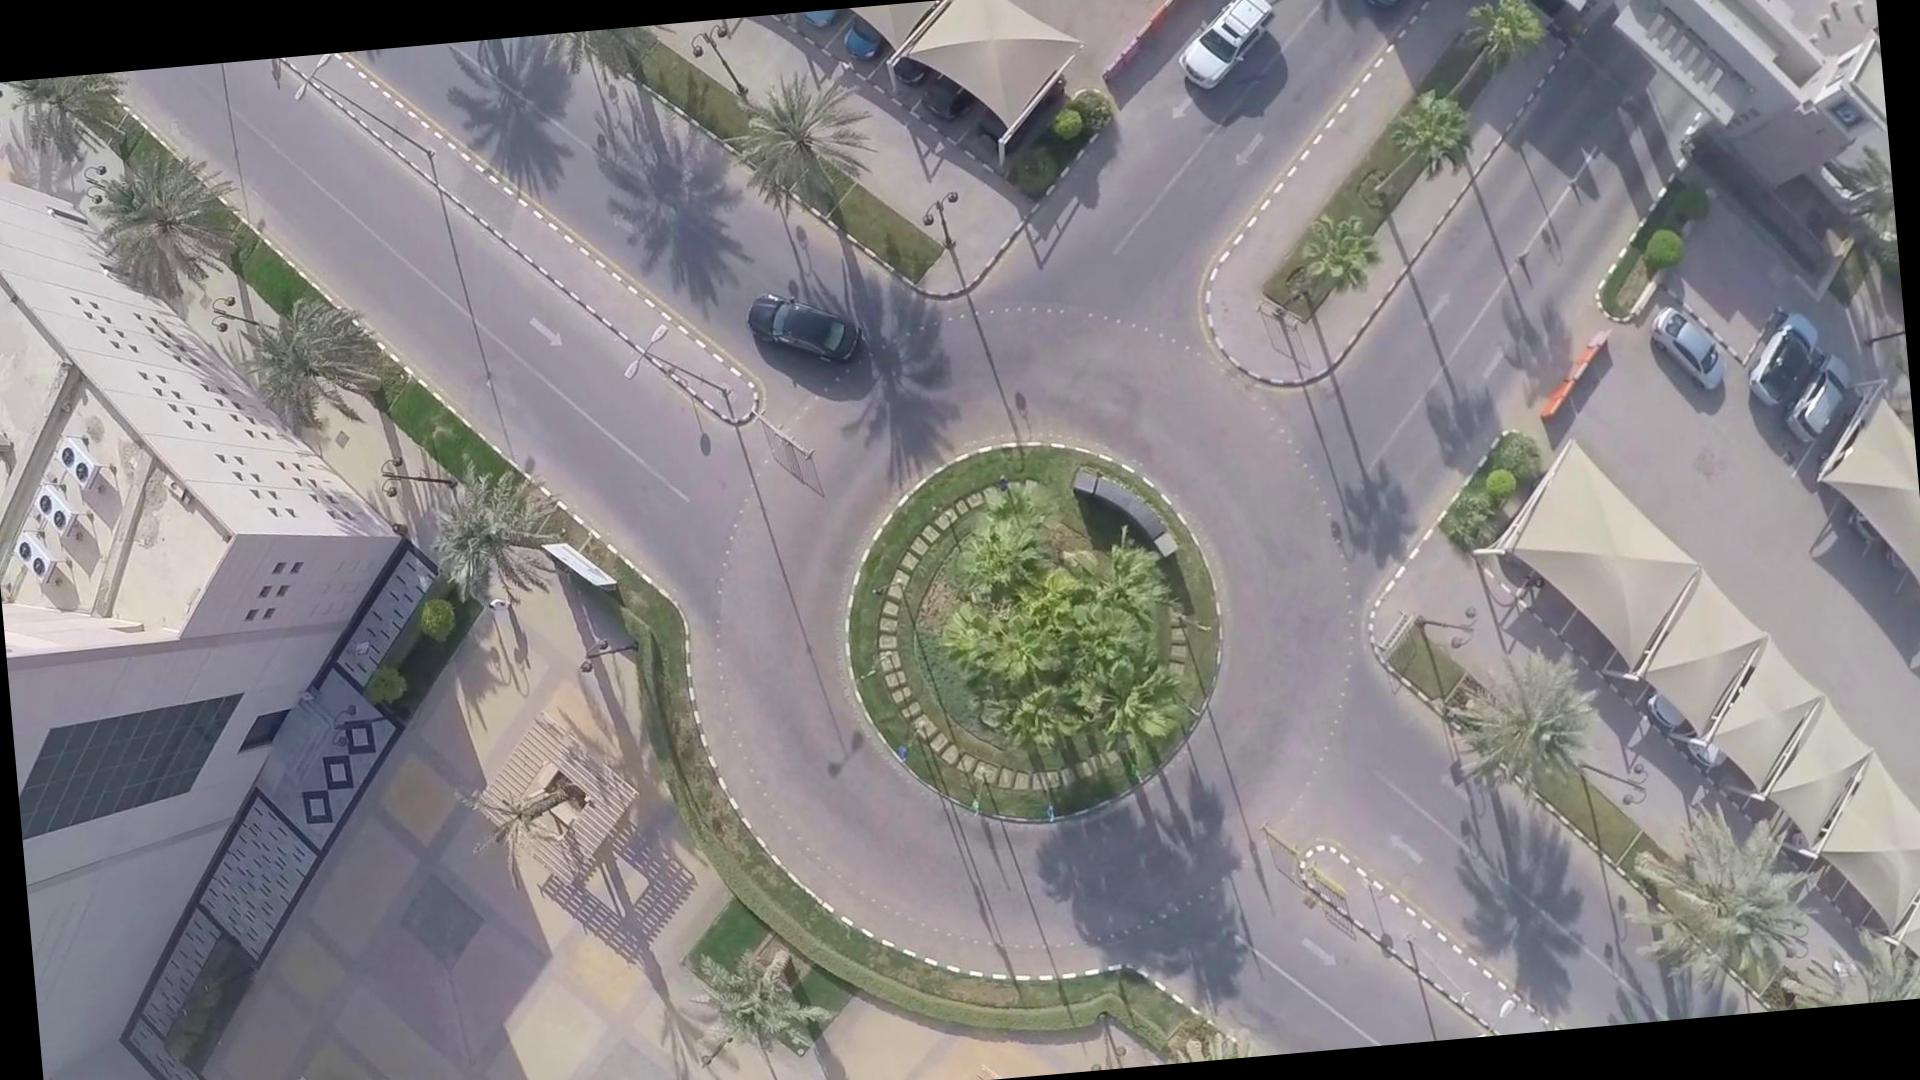vehicle: (728, 274, 872, 378), (1174, 0, 1278, 103)
